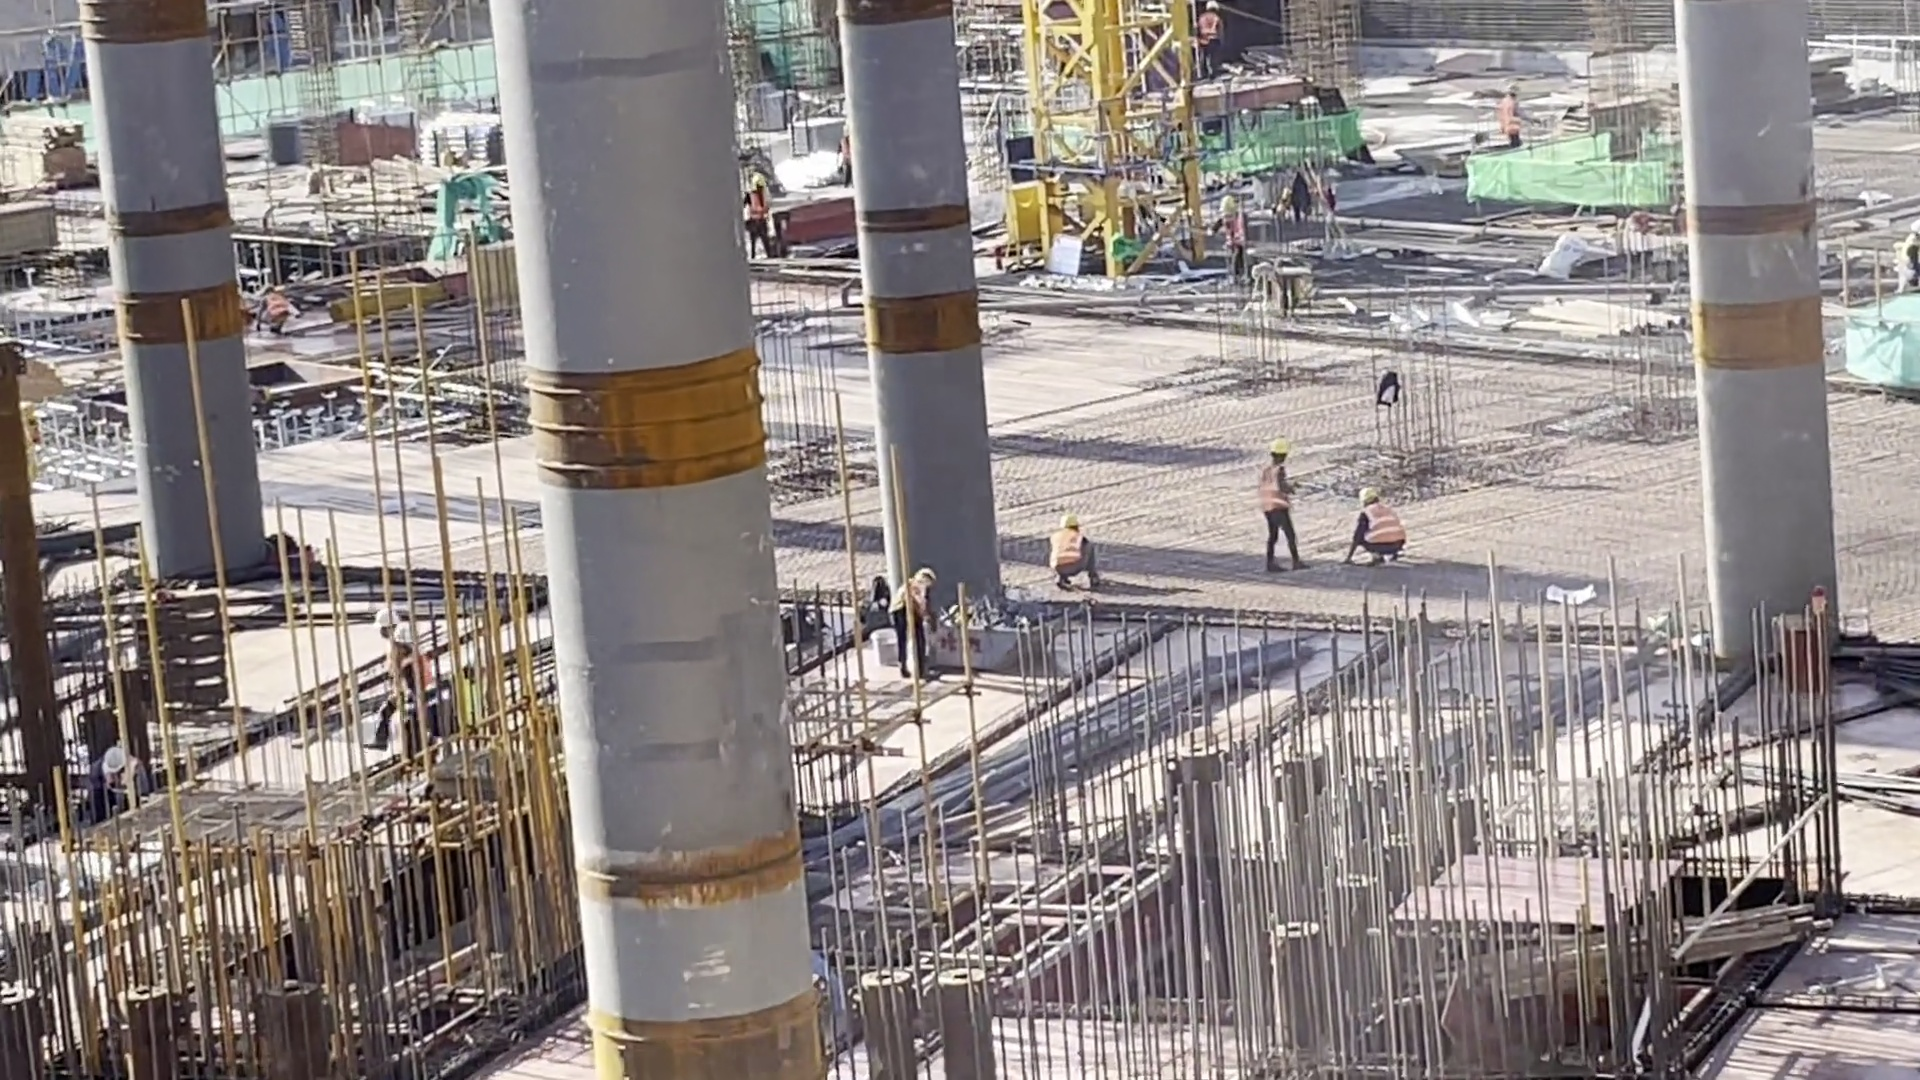helmet: (372, 602, 416, 650), (1349, 475, 1379, 505), (1215, 194, 1238, 220), (1060, 508, 1081, 531), (1271, 430, 1290, 453), (742, 168, 770, 183)
hopper: (903, 586, 1059, 680)
person: (1251, 438, 1318, 582), (873, 565, 944, 678), (370, 600, 423, 746), (1208, 186, 1267, 300), (86, 734, 155, 826), (1351, 487, 1411, 576), (1048, 511, 1104, 591), (733, 164, 775, 261), (249, 282, 307, 342), (1190, 1, 1227, 79), (1493, 79, 1530, 149)
vest: (1361, 505, 1405, 555), (1256, 461, 1293, 512), (898, 576, 929, 623), (1053, 533, 1089, 565), (1222, 218, 1252, 253), (748, 190, 772, 223)
